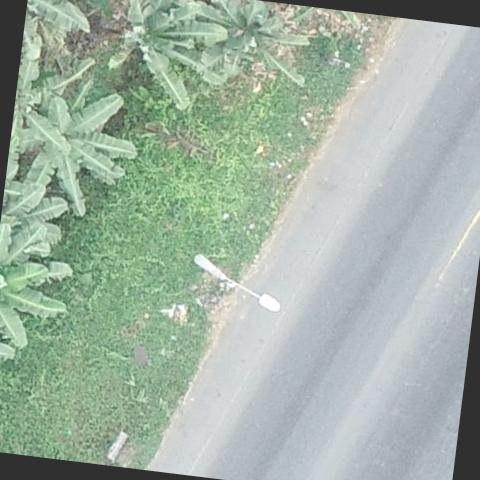Banana-plant: (1, 67, 148, 227), (114, 0, 239, 119), (166, 0, 316, 99), (6, 33, 99, 192), (0, 210, 81, 365)
